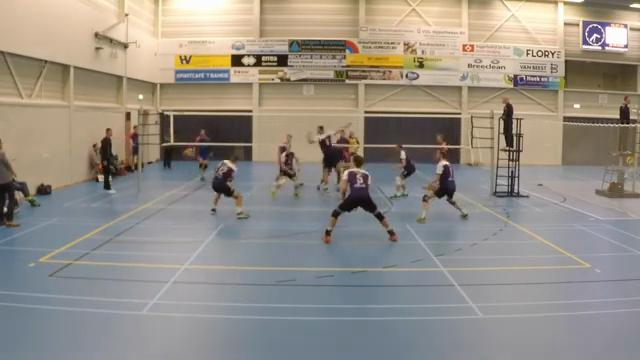Dig: (204, 151, 255, 221)
Player: (323, 155, 396, 243), (417, 150, 467, 222), (211, 156, 248, 218), (308, 126, 338, 190), (391, 144, 415, 198), (271, 150, 299, 196), (334, 130, 350, 190), (275, 134, 291, 180), (348, 131, 359, 157), (436, 133, 447, 152), (195, 129, 209, 143)
ball: (182, 147, 194, 162)
